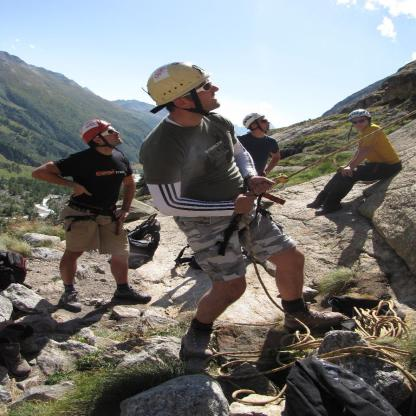Helmet: (148, 58, 226, 121), (80, 118, 123, 158), (347, 108, 372, 144), (241, 112, 267, 133)
